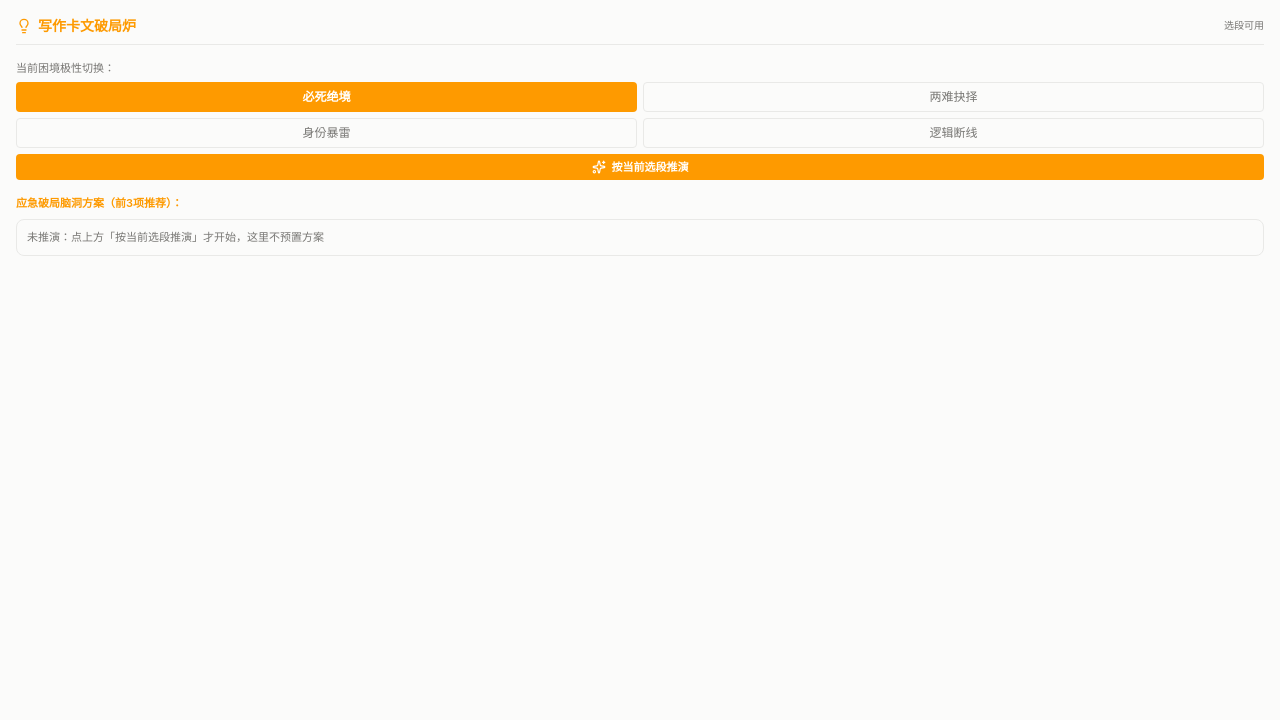
Test: BrainstormSpark Components › §P2.4：抽屉不在渲染时替作者推演，点一次才产一次
Expected: the text "写作卡文破局炉" is shown, [16, 16, 136, 36]
Expected: the text "应急破局脑洞方案（前3项推荐）：" is shown, [16, 196, 182, 210]
Click the button "按当前选段推演": point(640, 167) [16, 154, 1264, 180]
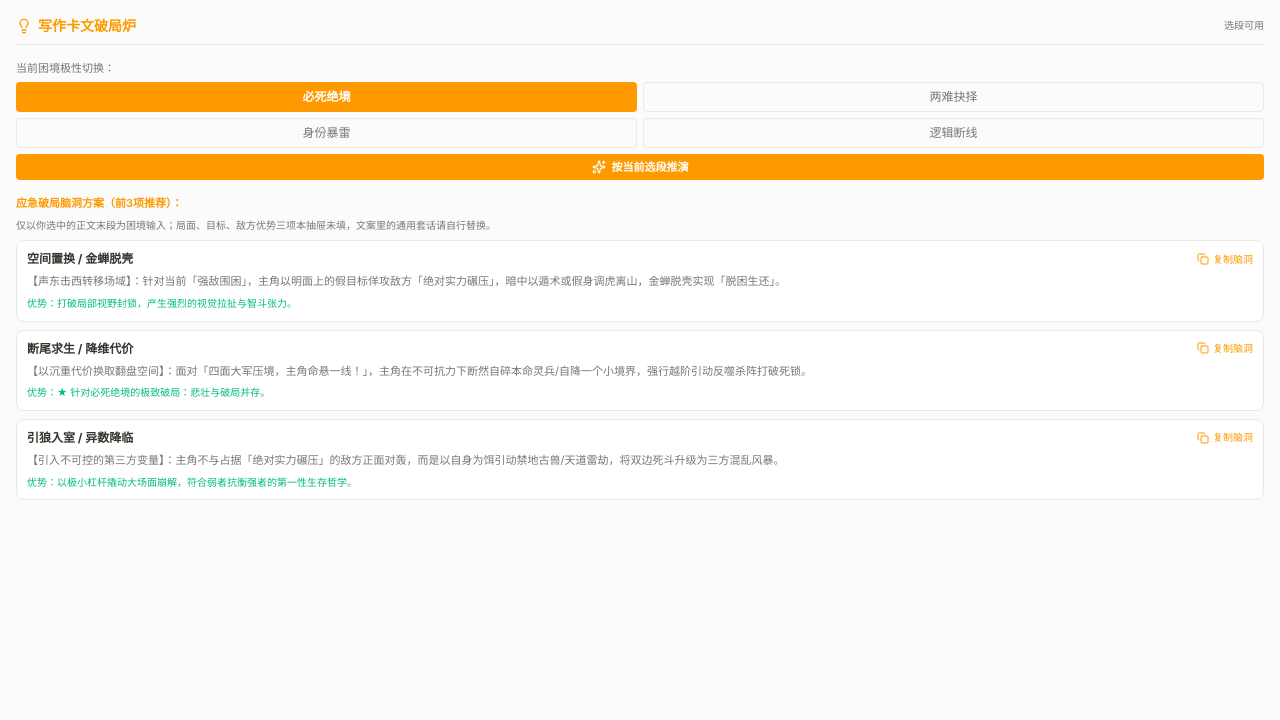
Now the number of buttons "复制脑洞" is 3, box [1197, 253, 1253, 266]; [1197, 342, 1253, 355]; [1197, 431, 1253, 444]
Now the text "四面大军压境，主角命悬一线！" is shown, box [27, 364, 812, 378]
